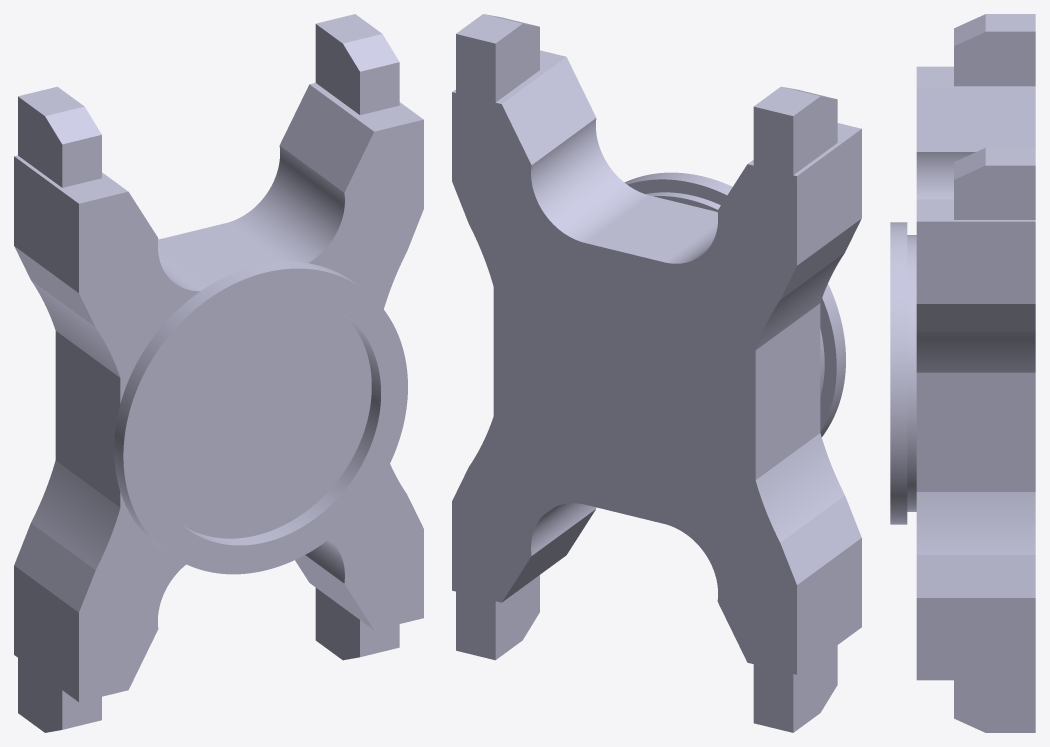
Rendered from CARBODY.obj.
The picture shows the model from 3 angles, left to right: view 1: azimuth 30°, elevation 25°; view 2: azimuth 150°, elevation 25°; view 3: azimuth 270°, elevation 25°; orthographic projection. The views are drawn at different scales.
Parts seen in each view (by area): view 1: HSC_SCX1200-3_CARBODY_TP1_000_1-HSC_SCX1200-3_CARBODY006 (Meshed, SCX1200-3_TTB_000_1-HSC_SCX1200-3_TTB (Meshed); view 2: HSC_SCX1200-3_CARBODY_TP1_000_1-HSC_SCX1200-3_CARBODY006 (Meshed, SCX1200-3_TTB_000_1-HSC_SCX1200-3_TTB (Meshed); view 3: HSC_SCX1200-3_CARBODY_TP1_000_1-HSC_SCX1200-3_CARBODY006 (Meshed, SCX1200-3_TTB_000_1-HSC_SCX1200-3_TTB (Meshed).
Part boxes in pixels (x1,y1,x2,y2): HSC_SCX1200-3_CARBODY_TP1_000_1-HSC_SCX1200-3_CARBODY006 (Meshed: (14, 14, 423, 732); SCX1200-3_TTB_000_1-HSC_SCX1200-3_TTB (Meshed): (114, 261, 407, 574); HSC_SCX1200-3_CARBODY_TP1_000_1-HSC_SCX1200-3_CARBODY006 (Meshed: (452, 14, 861, 732); SCX1200-3_TTB_000_1-HSC_SCX1200-3_TTB (Meshed): (624, 172, 845, 436); HSC_SCX1200-3_CARBODY_TP1_000_1-HSC_SCX1200-3_CARBODY006 (Meshed: (907, 14, 1035, 732); SCX1200-3_TTB_000_1-HSC_SCX1200-3_TTB (Meshed): (890, 222, 907, 524).
Size of the model in its own units: 2780 by 4750 by 1105.
